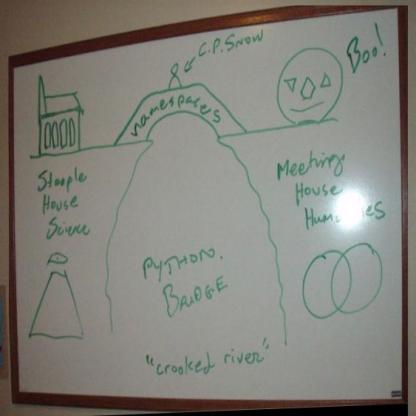Handwritten text: (149, 250, 236, 324), (129, 222, 228, 287), (330, 13, 412, 91), (296, 185, 391, 249), (269, 139, 354, 183), (155, 347, 270, 379), (195, 26, 272, 62), (285, 170, 353, 210), (26, 164, 98, 196), (27, 190, 87, 218), (41, 215, 97, 243)
Whiteboard: (10, 4, 405, 403)
